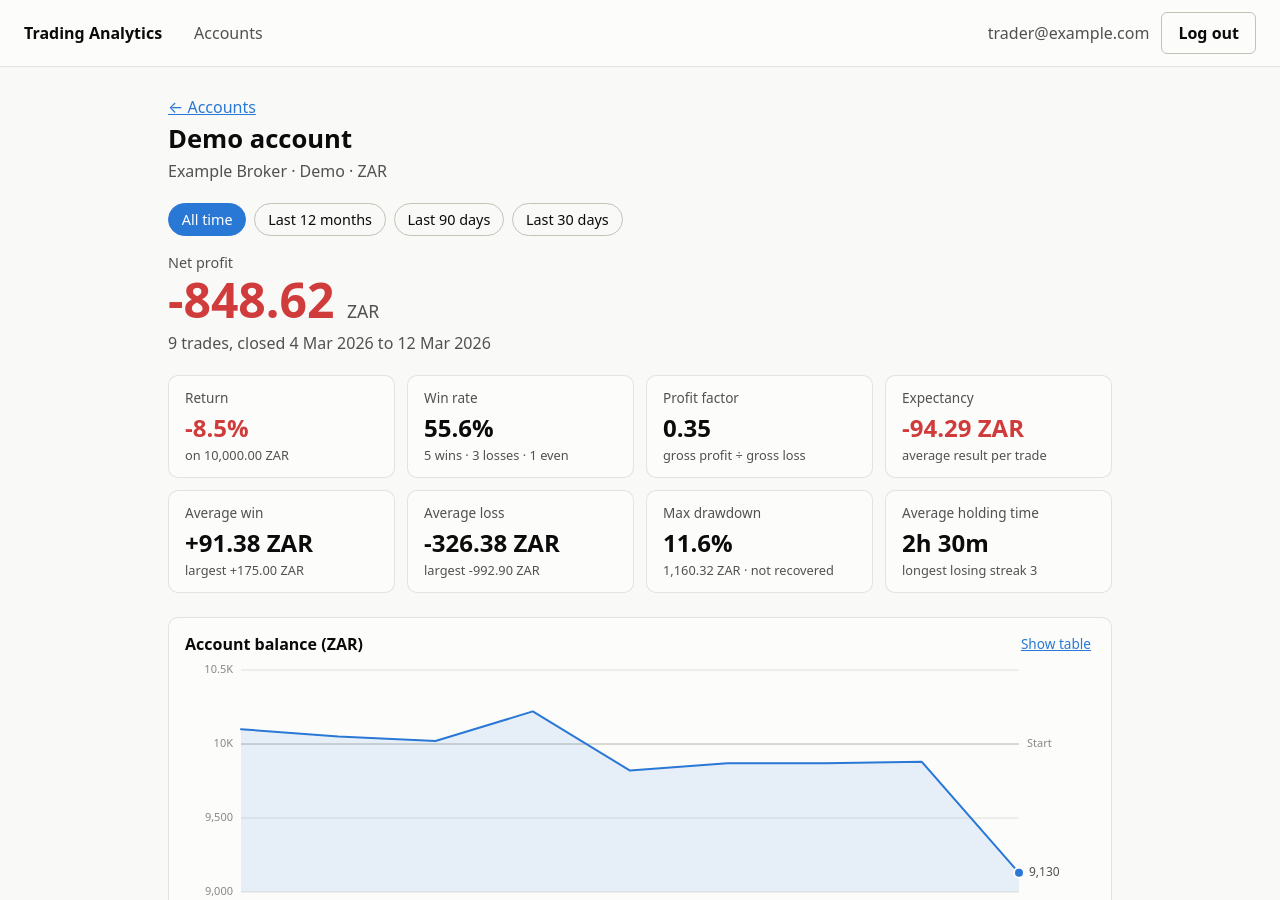
Test: account overview › says when nothing closed in the chosen period
Expected: the element "Net profit" is shown, [168,253,491,354]
Click the radio button labelled "Last 30 days" at coordinates (567, 220), box [512,203,622,236]
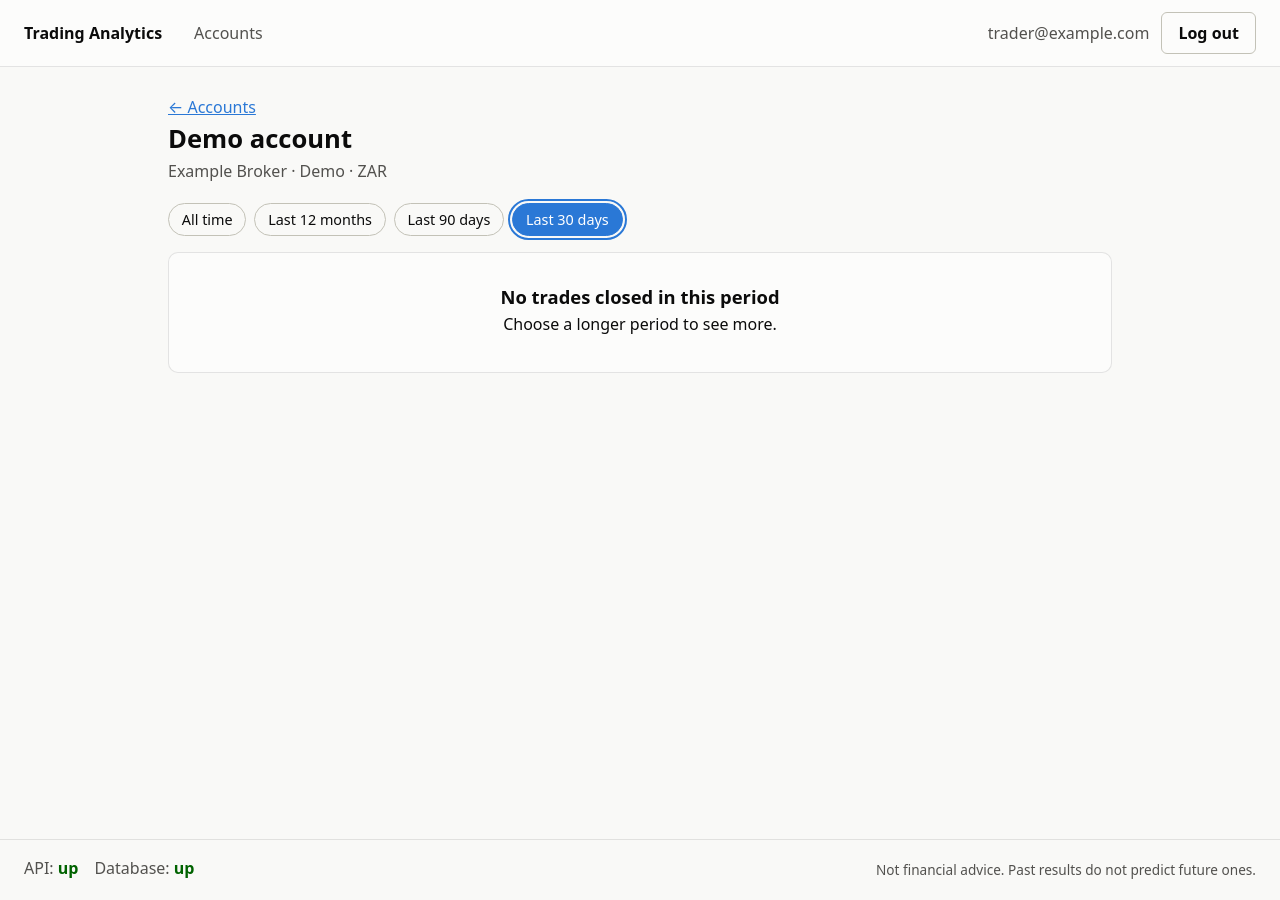
Expected: the heading "No trades closed in this period" is shown, [500,284,780,309]
Expected: the text "Net profit" is gone
